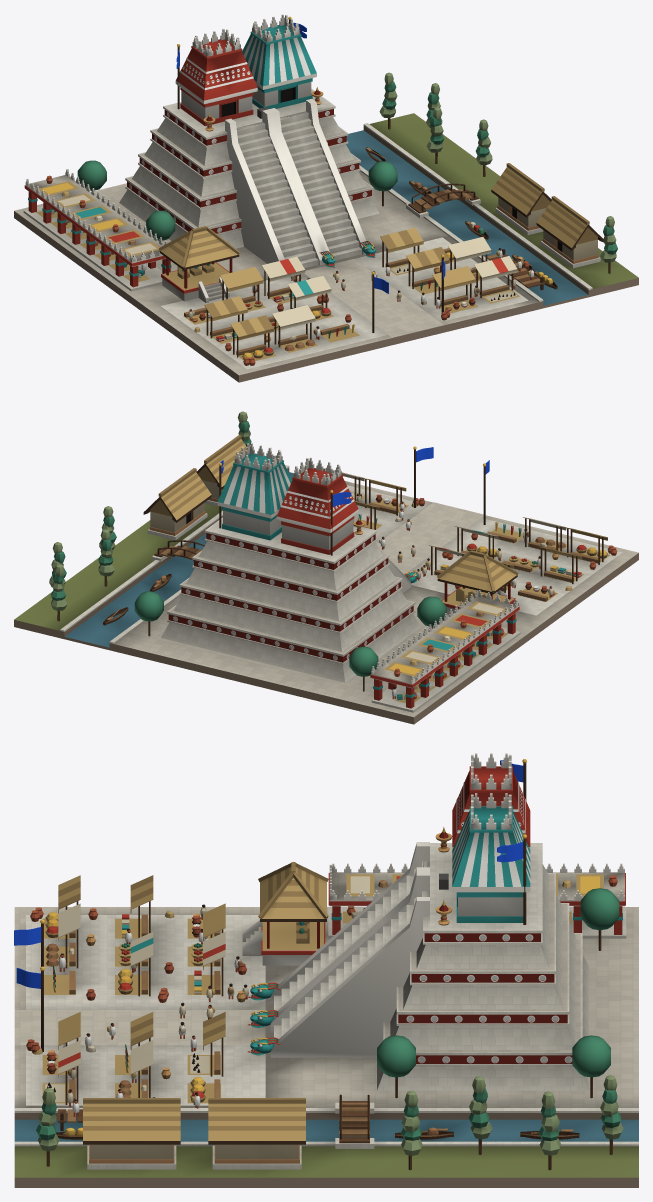
Rendered from lm_tlatelolco.glb.
3 views of the same model, one above another, from view 1: azimuth 30°, elevation 25°; view 2: azimuth 150°, elevation 25°; view 3: azimuth 270°, elevation 25° (orthographic). The views are drawn at different scales.
Parts seen in each view (by area): view 1: lm_tlatelolco; view 2: lm_tlatelolco; view 3: lm_tlatelolco.
Part boxes in pixels (x1,y1,x2,y2): lm_tlatelolco: (14, 14, 638, 382); lm_tlatelolco: (14, 411, 638, 724); lm_tlatelolco: (14, 753, 638, 1187).
Size of the model in its own units: 2.3 by 1 by 2.24.
1 material, 1 textured.
